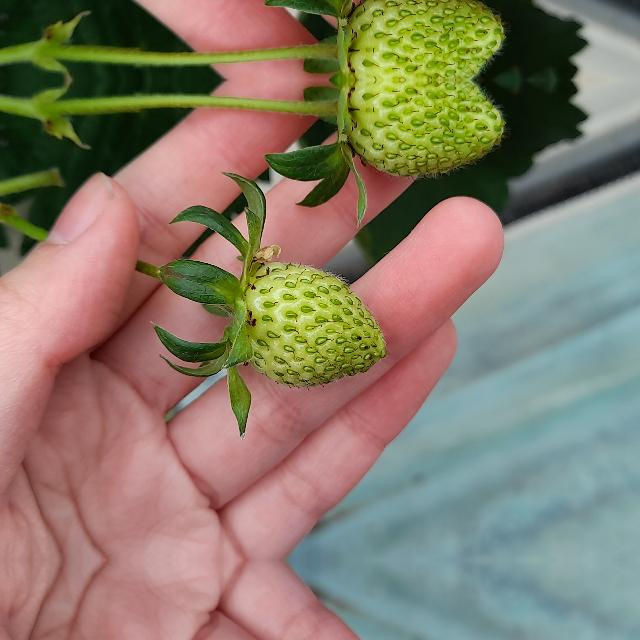Health_25: (242, 262, 386, 386), (330, 81, 506, 177), (330, 0, 506, 79)
